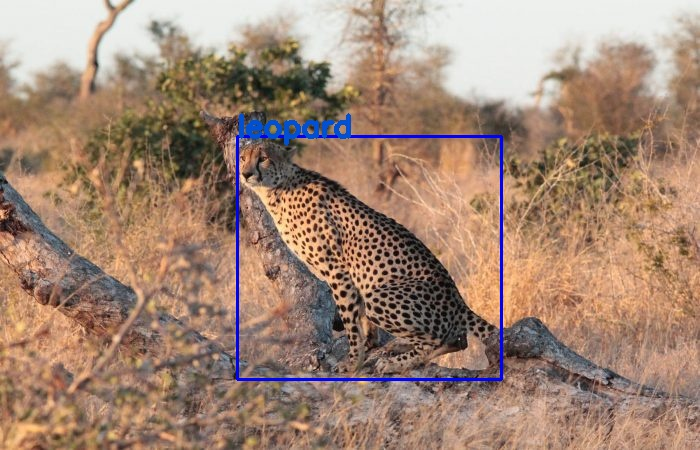leopard: (237, 135, 501, 378)
